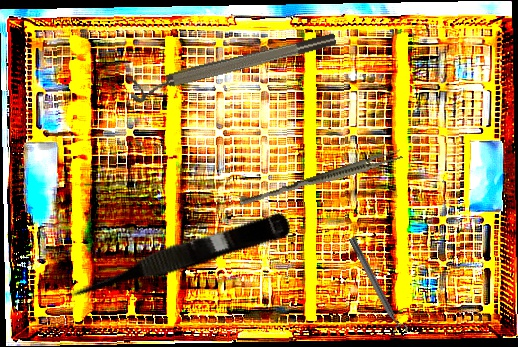Fixation Ring: (126, 29, 340, 105), (344, 233, 410, 339)
Micro Scissor: (60, 206, 293, 308)
Tissue Forceps: (238, 145, 404, 212)
